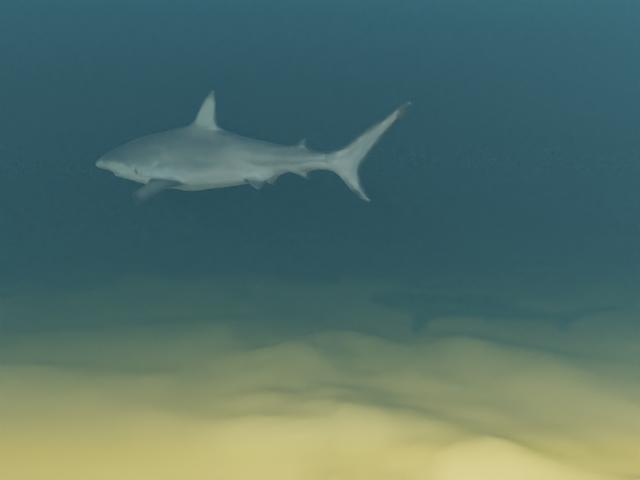Carribean Shark.001: (95, 89, 411, 204)
